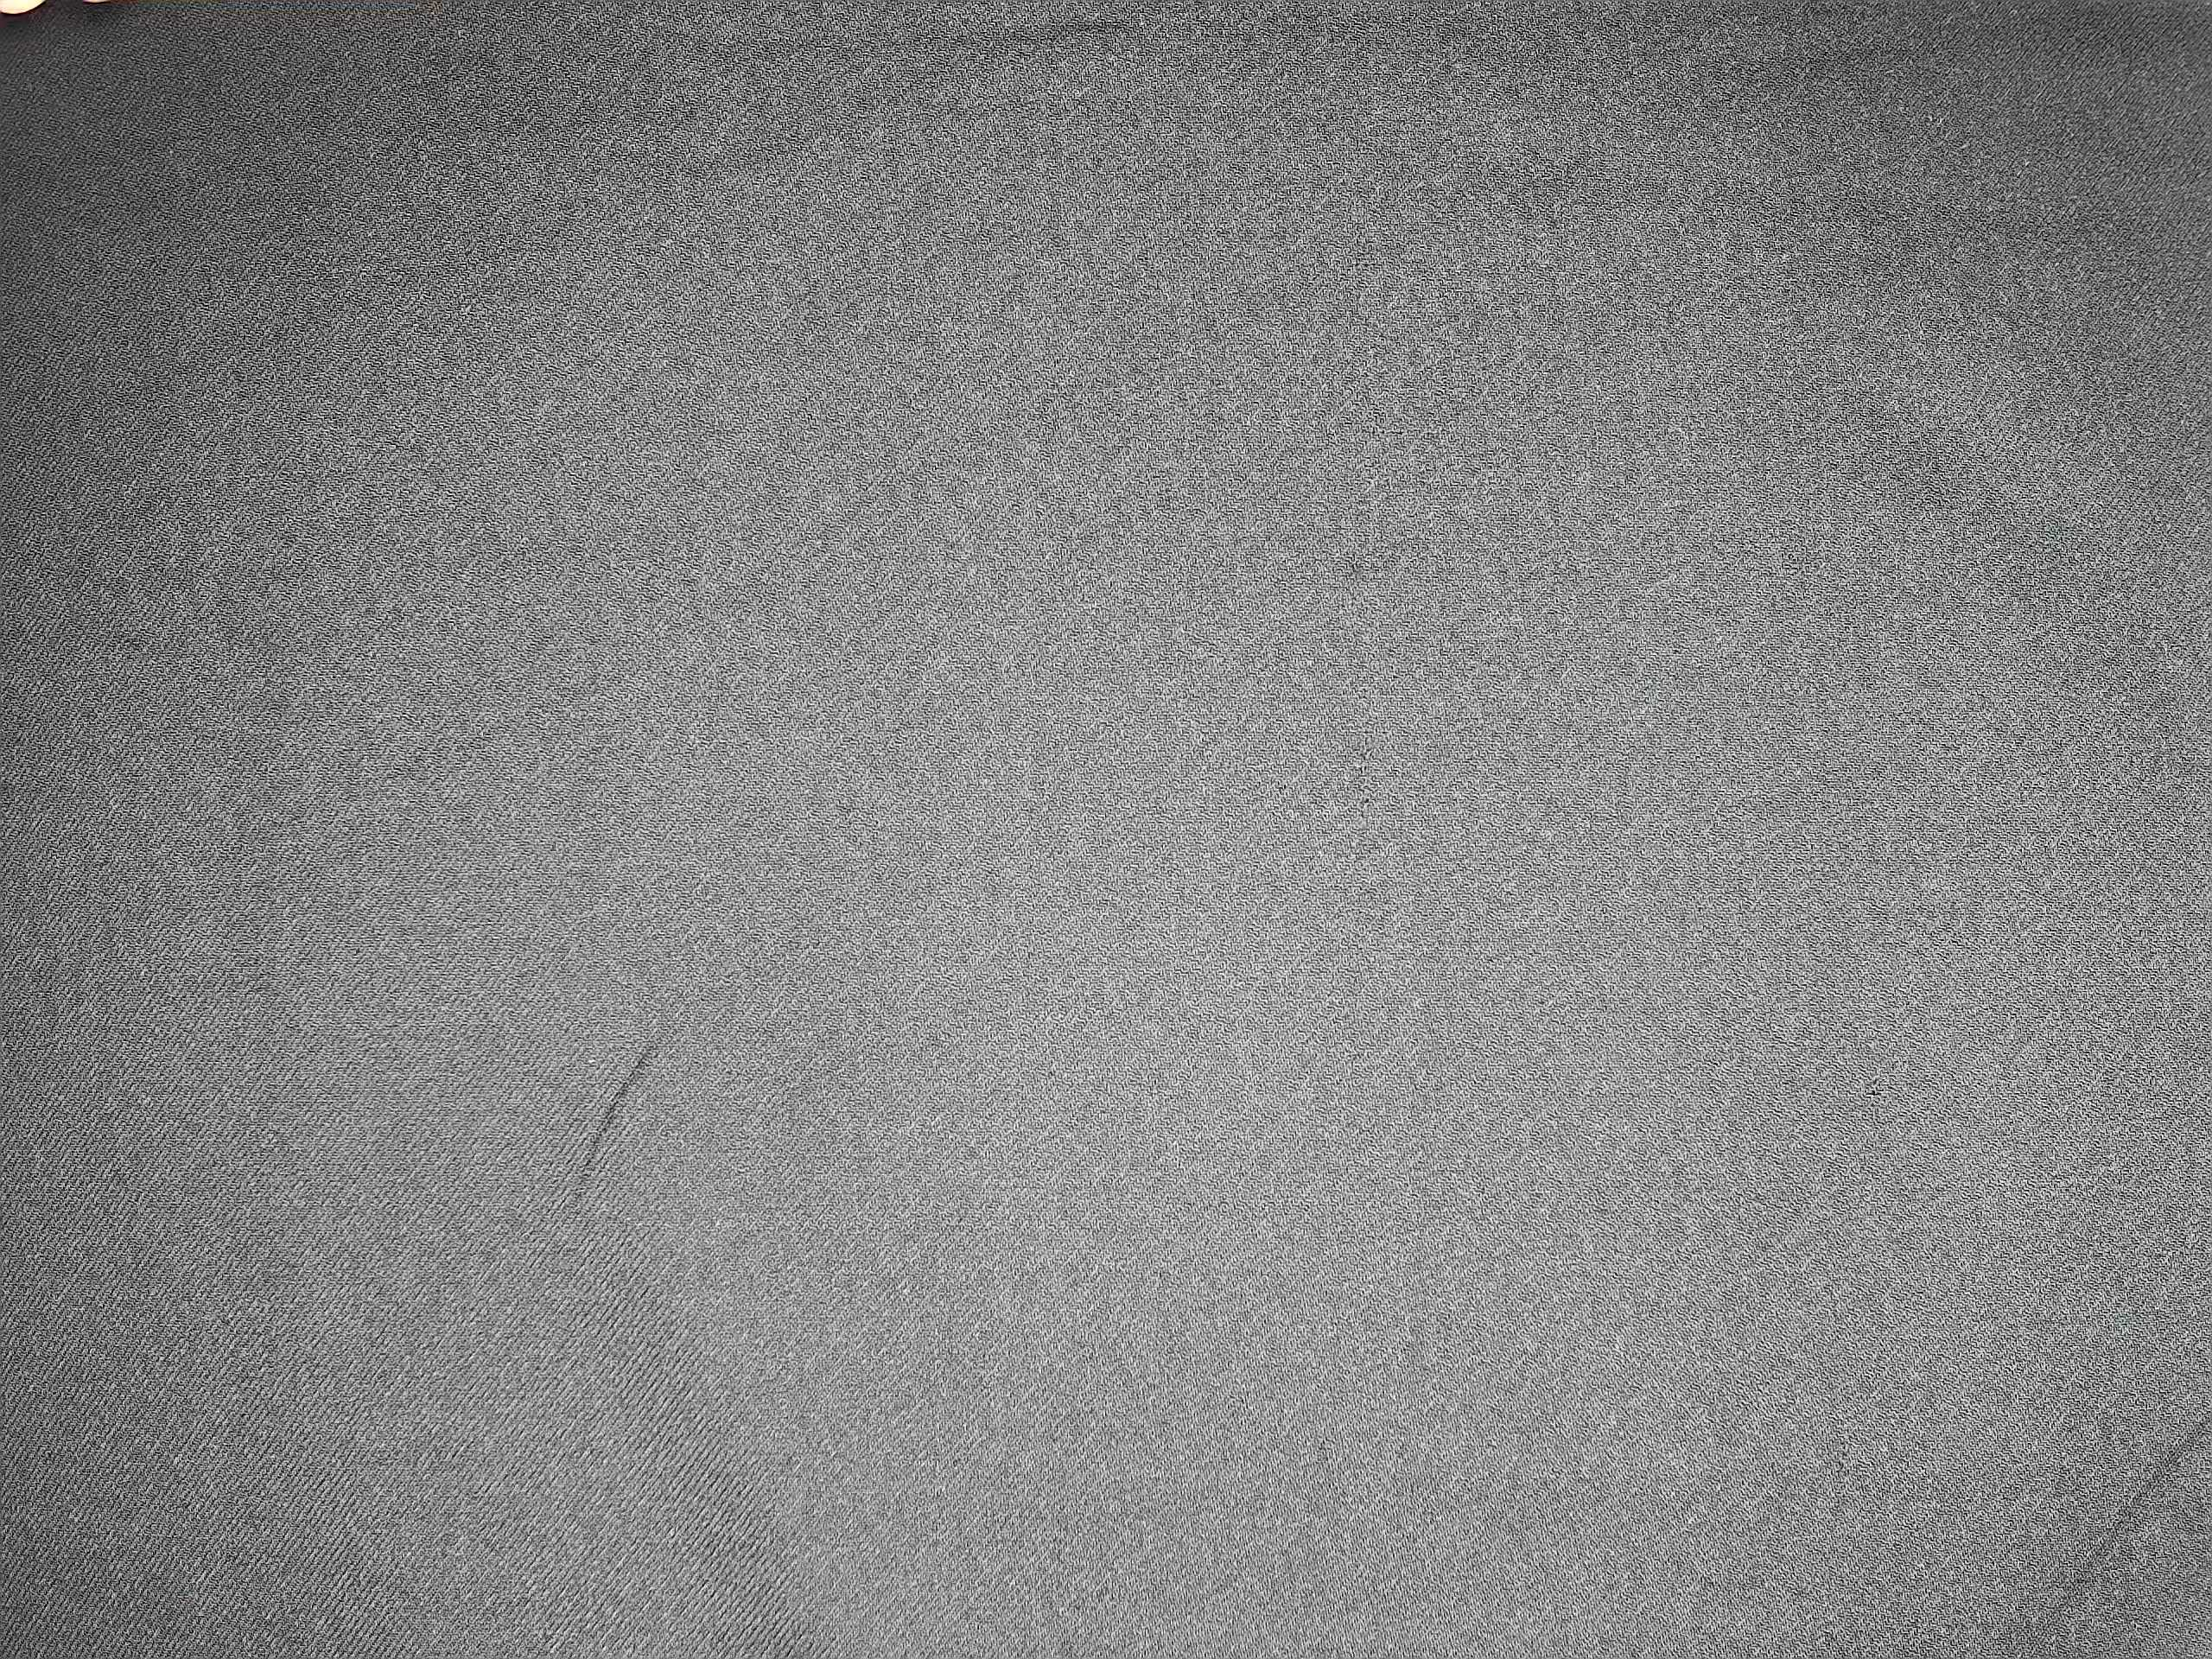hanging-warp: (1341, 451, 1409, 913), (1827, 1406, 1857, 1513)
